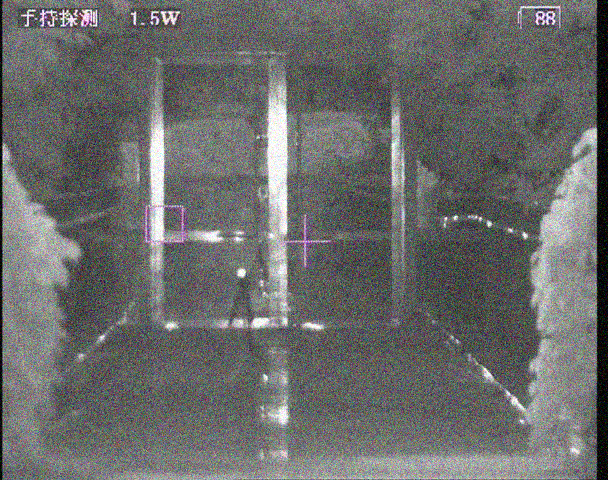my: (234, 266, 246, 280)
